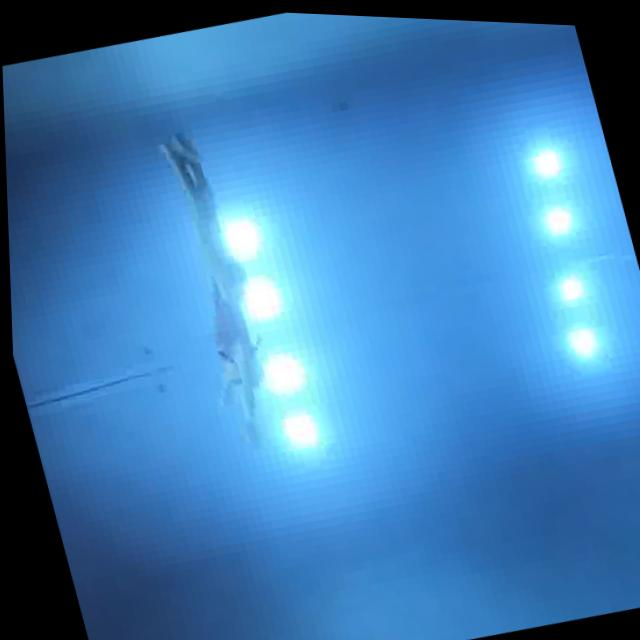human: (133, 115, 293, 460)
